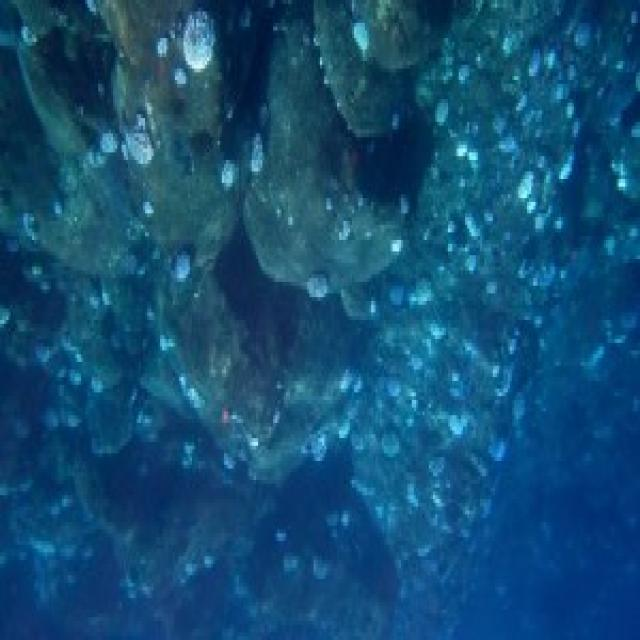Bleached: (180, 1, 224, 95), (165, 245, 202, 298), (302, 262, 336, 313), (125, 111, 154, 166), (557, 143, 583, 195), (223, 153, 238, 202)
